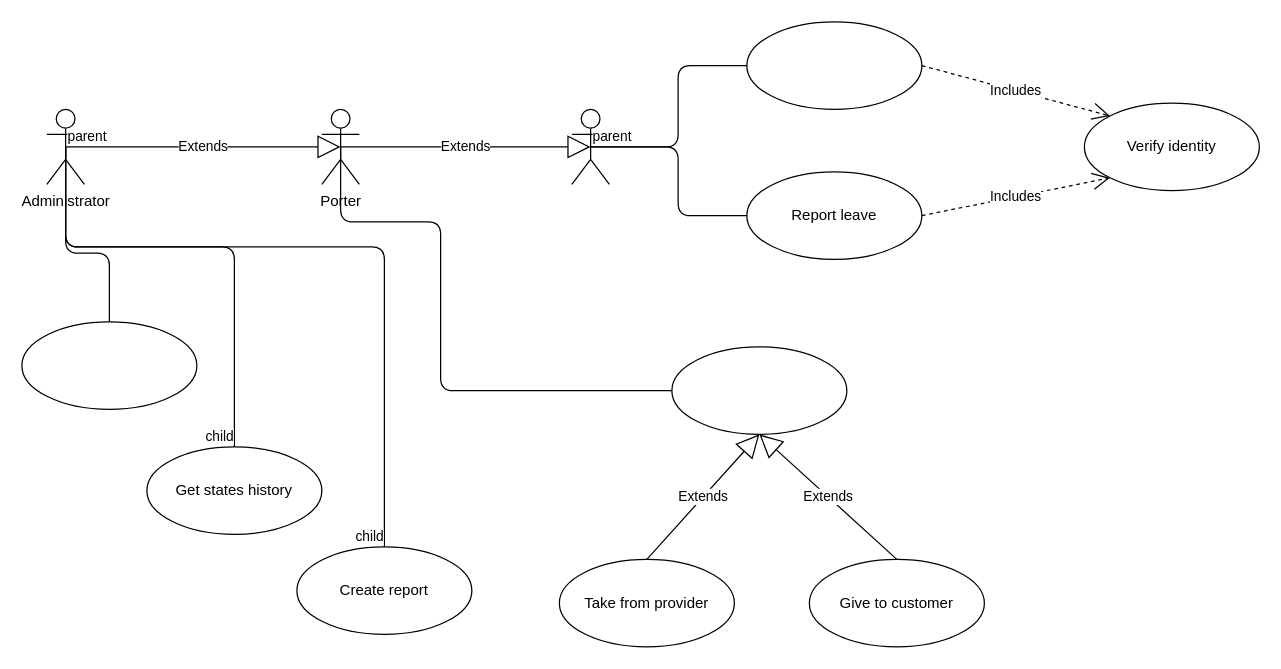
Image size: 1281x669. Some labels were removed from this diagram. Each missing label, with the centre of its shape:
Actor: point 590,146
Get current storage state: point 109,365
Move product: point 759,390
Report come: point 834,65
